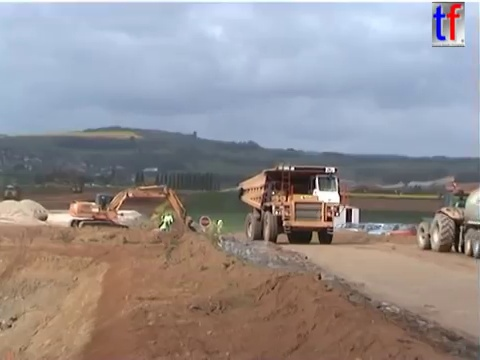excavator: (68, 182, 195, 239)
truck: (236, 162, 345, 246), (414, 184, 479, 260), (1, 182, 19, 201), (70, 181, 82, 193)
worker: (158, 214, 169, 237), (213, 215, 224, 238), (163, 211, 174, 232)
